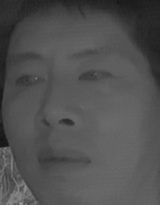eye: (77, 66, 115, 84), (15, 71, 45, 89)
mouth: (32, 142, 93, 181)
